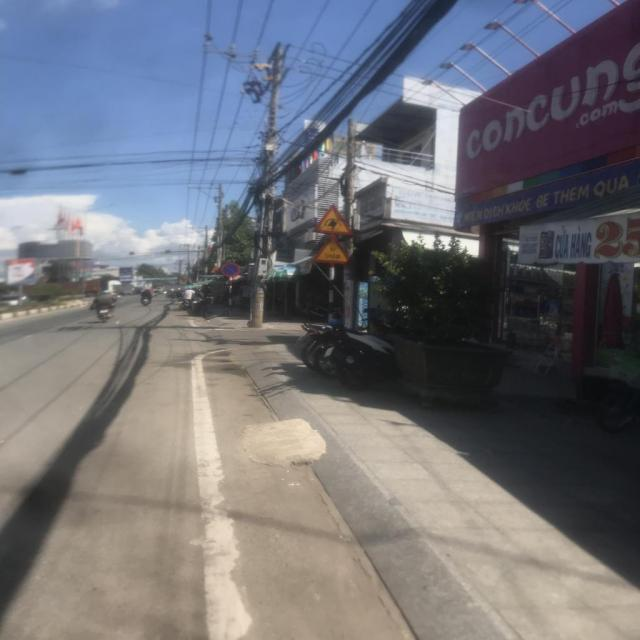cam_do_xe: (221, 262, 241, 277)
chu_y_nguoi_di_bo_cat_ngang: (211, 266, 221, 272)
di_cham: (311, 232, 353, 264)
khac: (311, 204, 354, 235)
